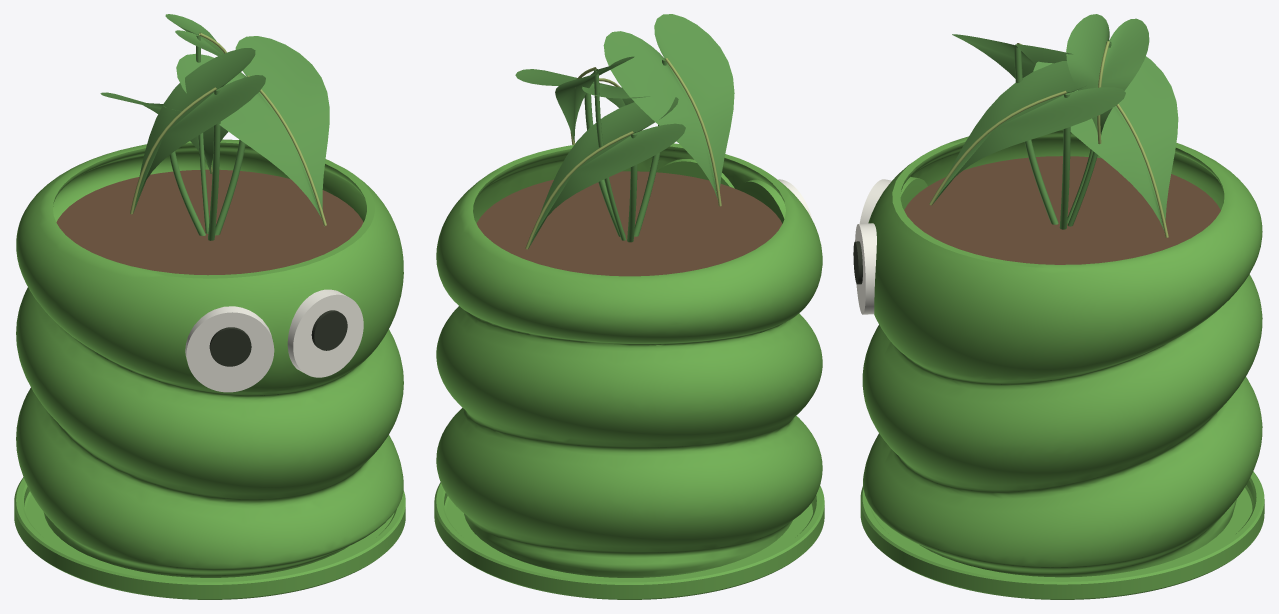
The model's file is wobble-pothos-v03.glb.
3 views of the same model, side by side, from view 1: azimuth 30°, elevation 25°; view 2: azimuth 150°, elevation 25°; view 3: azimuth 270°, elevation 25° (orthographic). The views are drawn at different scales.
Visible parts, largest first — view 1: Pot, Soil, Saucer, Leaf_0, Leaf_2, EyeLeft, EyeRight, PupilLeft, PupilRight, Leaf_3, Stem_2, Leaf_1 (+5 smaller); view 2: Pot, Soil, Leaf_2, Saucer, Leaf_1, Leaf_0, Leaf_3, Stem_3, Stem_2, Stem_1, Vein_2, Vein_1 (+1 smaller); view 3: Pot, Soil, Saucer, Leaf_1, Leaf_0, Leaf_3, Leaf_2, EyeRight, Stem_2, Stem_0, Vein_0, EyeLeft (+1 smaller).
Boxes of the visible parts, x1=… form: Pot: x1=16, y1=139, x2=403, y2=577; Soil: x1=56, y1=169, x2=363, y2=275; Saucer: x1=14, y1=477, x2=405, y2=599; Leaf_0: x1=176, y1=36, x2=329, y2=218; Leaf_2: x1=133, y1=48, x2=265, y2=213; EyeLeft: x1=185, y1=306, x2=274, y2=392; EyeRight: x1=287, y1=289, x2=363, y2=377; PupilLeft: x1=209, y1=327, x2=251, y2=366; PupilRight: x1=311, y1=310, x2=347, y2=350; Leaf_3: x1=165, y1=14, x2=224, y2=57; Stem_2: x1=208, y1=88, x2=220, y2=240; Leaf_1: x1=100, y1=92, x2=228, y2=173; Pot: x1=436, y1=143, x2=822, y2=577; Soil: x1=476, y1=171, x2=782, y2=276; Leaf_2: x1=603, y1=14, x2=734, y2=199; Saucer: x1=434, y1=482, x2=824, y2=599; Leaf_1: x1=528, y1=97, x2=685, y2=248; Leaf_0: x1=515, y1=69, x2=649, y2=107; Leaf_3: x1=555, y1=56, x2=634, y2=142; Stem_3: x1=594, y1=69, x2=626, y2=240; Stem_2: x1=634, y1=58, x2=667, y2=236; Stem_1: x1=627, y1=132, x2=637, y2=242; Vein_2: x1=665, y1=58, x2=721, y2=206; Vein_1: x1=525, y1=131, x2=633, y2=249; Pot: x1=862, y1=129, x2=1262, y2=577; Soil: x1=904, y1=156, x2=1220, y2=264; Saucer: x1=860, y1=471, x2=1264, y2=599; Leaf_1: x1=1033, y1=40, x2=1178, y2=230; Leaf_0: x1=932, y1=61, x2=1125, y2=204; Leaf_3: x1=1066, y1=14, x2=1149, y2=134; Leaf_2: x1=952, y1=34, x2=1072, y2=78; EyeRight: x1=855, y1=223, x2=876, y2=314; Stem_2: x1=1014, y1=45, x2=1058, y2=224; Stem_0: x1=1059, y1=91, x2=1070, y2=229; Vein_0: x1=929, y1=90, x2=1066, y2=205; EyeLeft: x1=859, y1=179, x2=891, y2=223.
Size of the model in its own units: 2.02 by 2.72 by 2.06.
